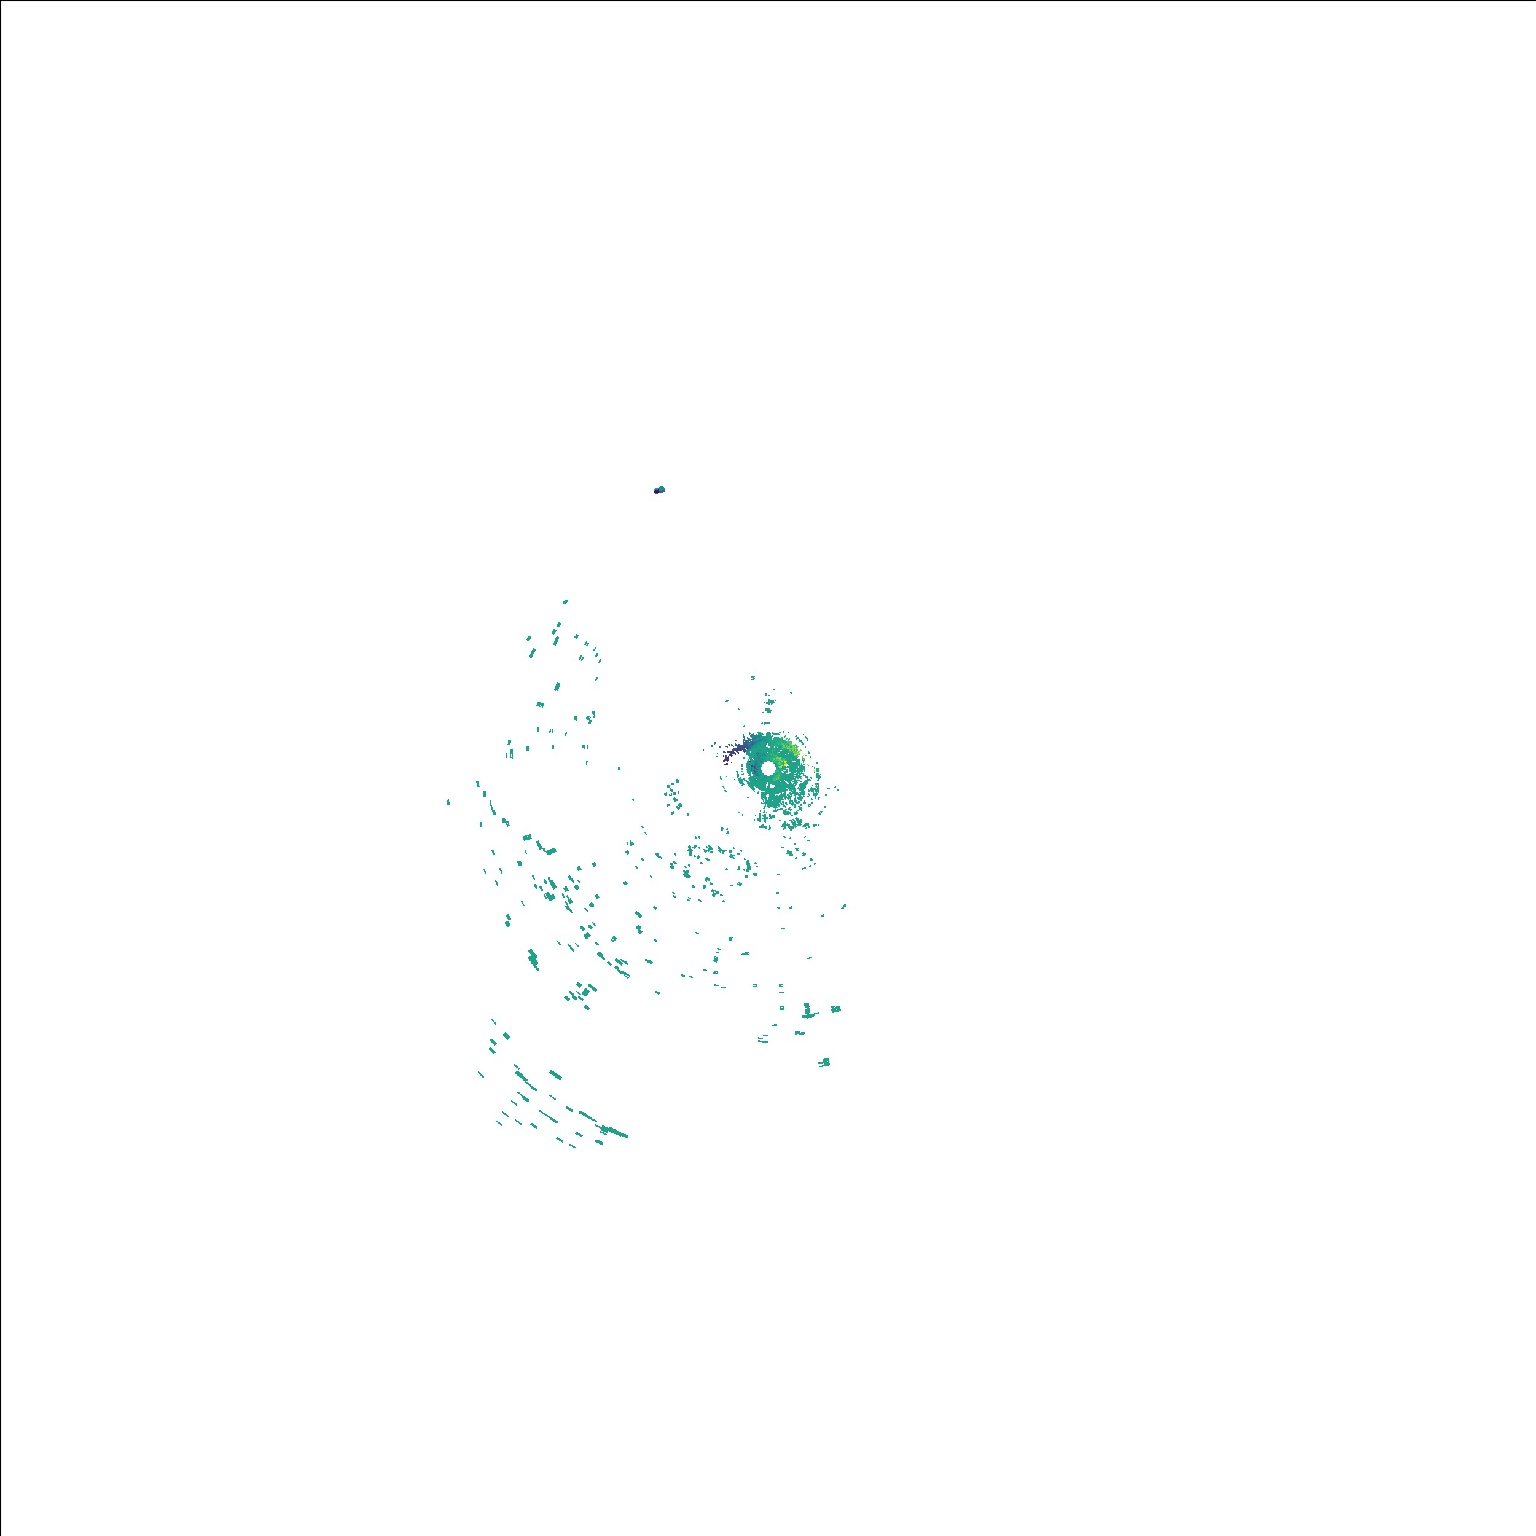fall: (644, 478, 672, 497)
